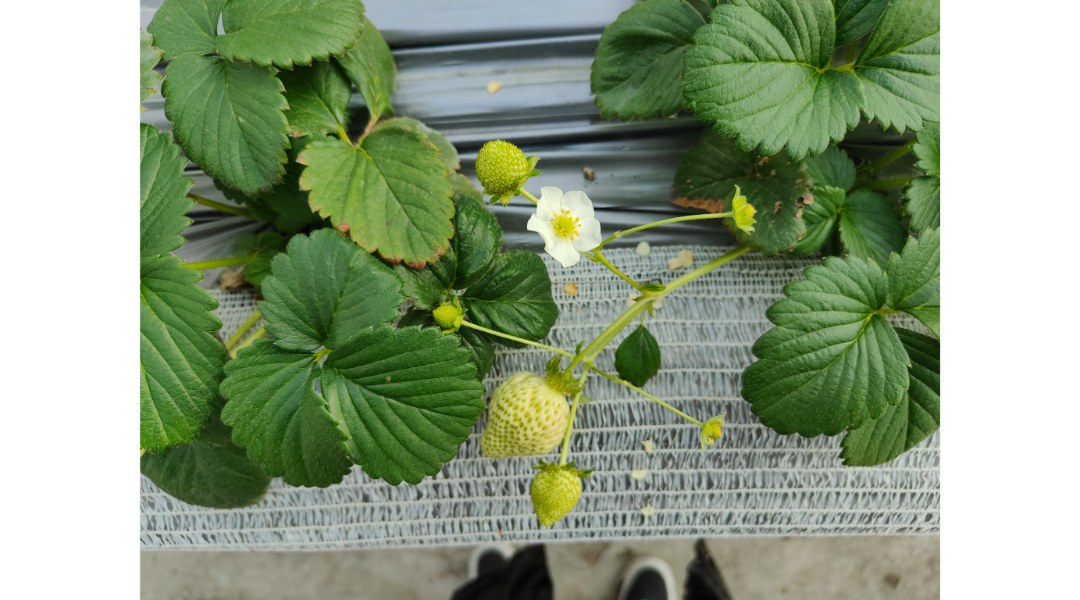berry: (468, 362, 573, 477), (463, 132, 535, 205), (522, 449, 586, 531), (725, 176, 770, 238), (423, 290, 475, 337), (697, 406, 736, 463)
flower: (526, 176, 606, 279)
strain: (586, 200, 730, 247), (592, 369, 679, 418), (465, 317, 571, 353), (673, 241, 745, 293)
